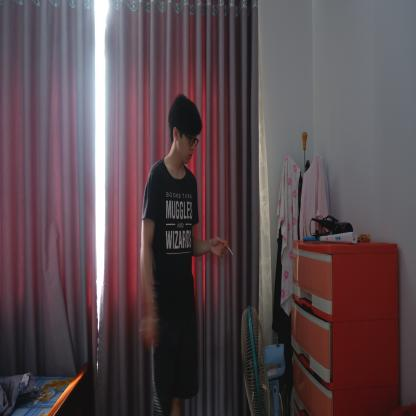cigarette: (224, 242, 234, 256)
person: (142, 91, 205, 415)
